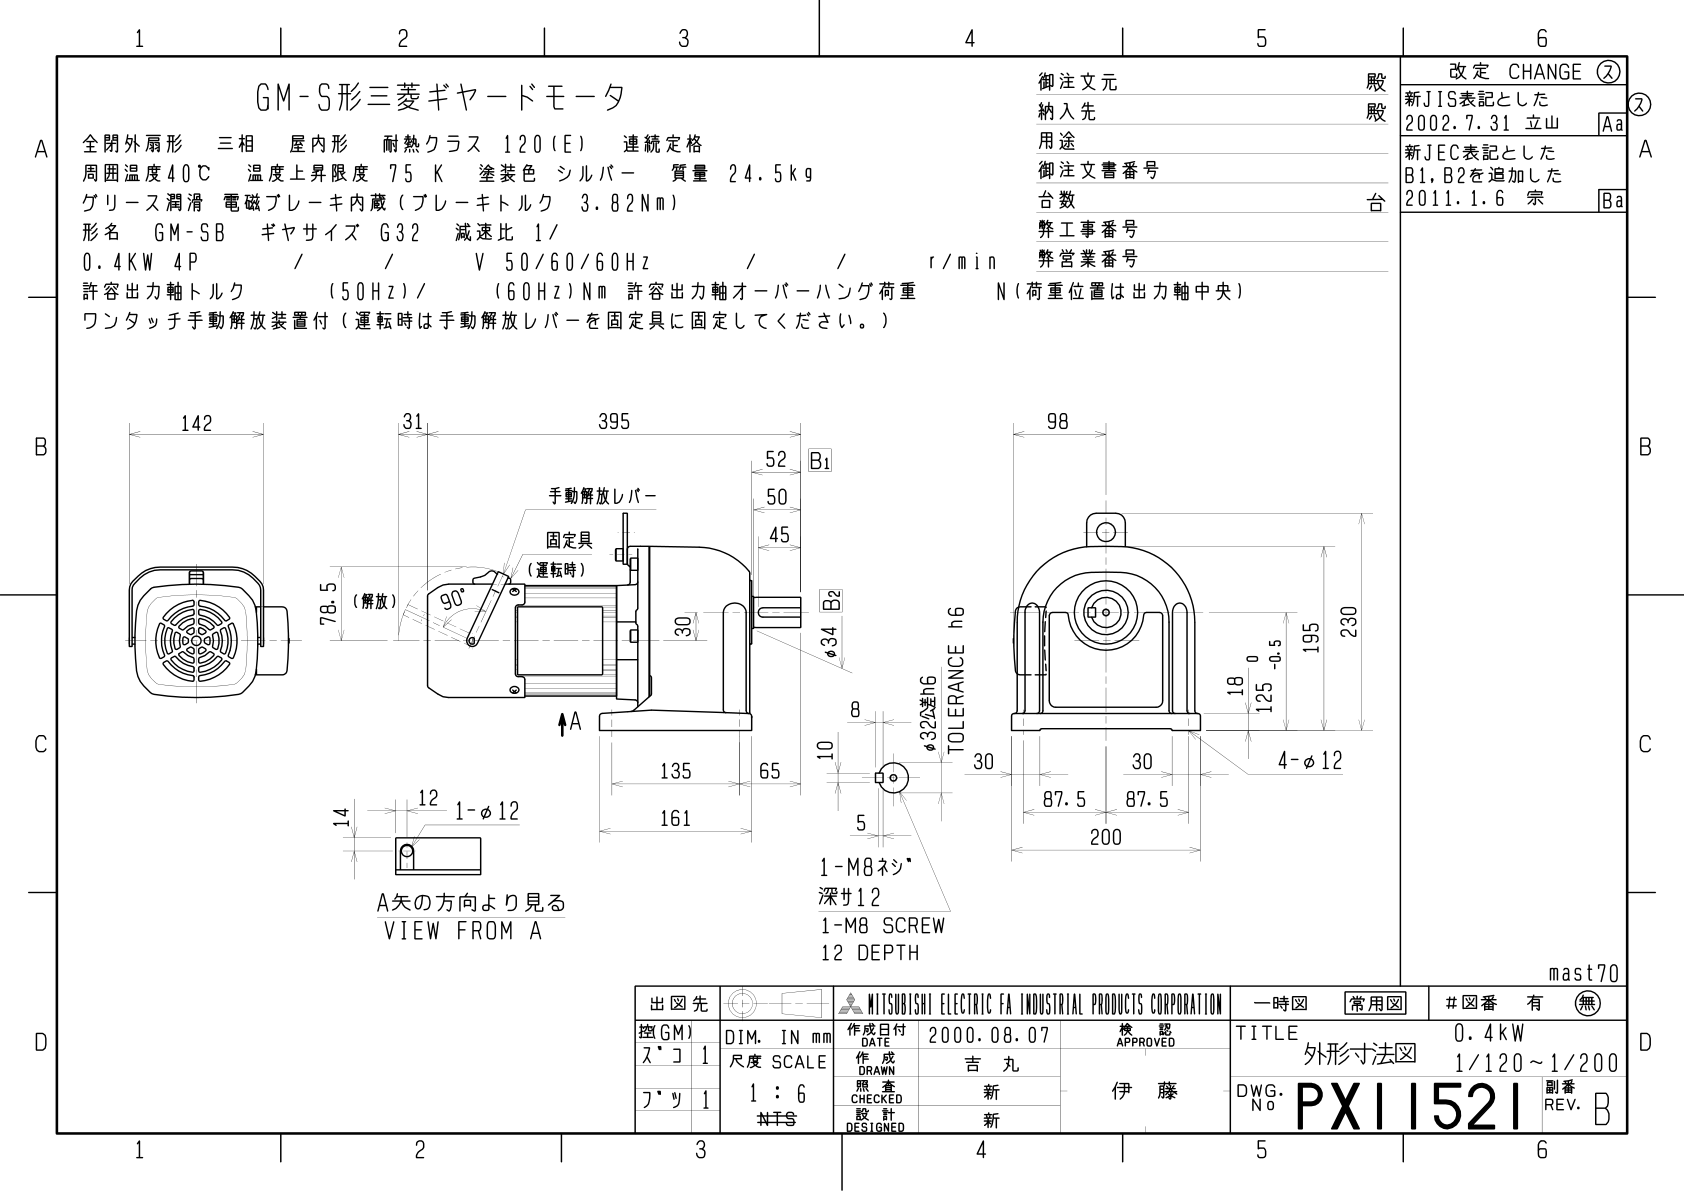GM_S_手動ブレーキ＿三相_脚: (89, 380, 1389, 965)
